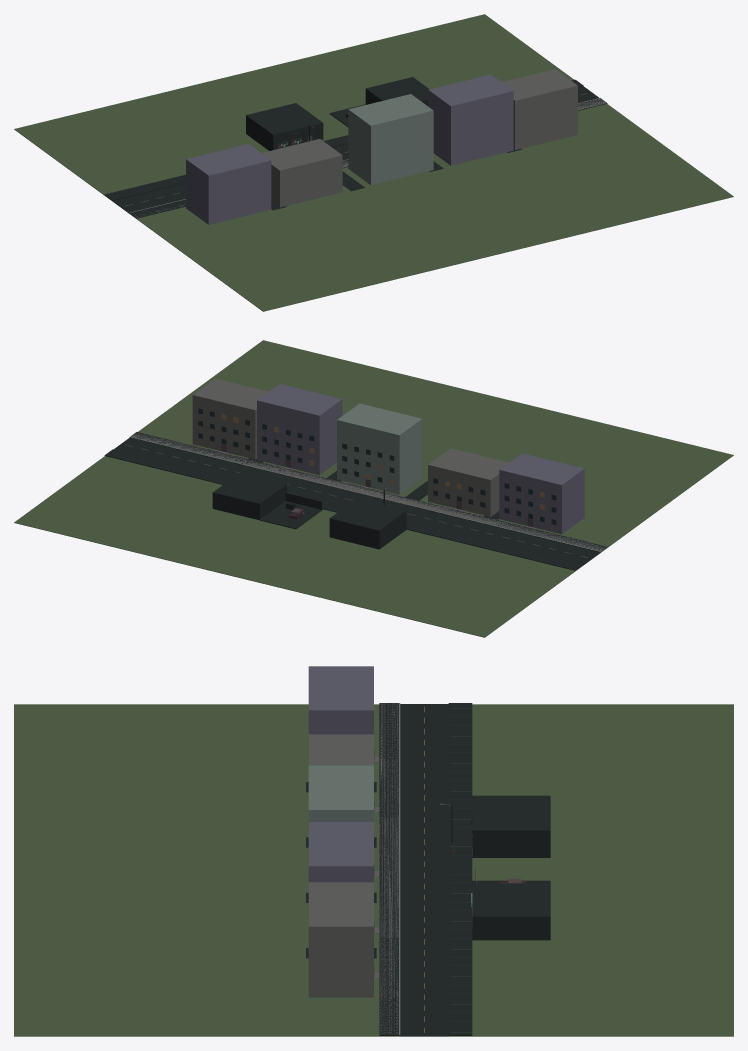
File: magazin_arme_strada.glb
3 views of the same model, one above another, from view 1: azimuth 30°, elevation 25°; view 2: azimuth 150°, elevation 25°; view 3: azimuth 270°, elevation 25° (orthographic). The views are drawn at different scales.
Visible parts, largest first — view 1: Strada, Coliziune; view 2: Strada, Coliziune; view 3: Strada, Coliziune.
Part boxes in pixels (x1=…): Strada: x1=14, y1=14, x2=733, y2=311; Coliziune: x1=104, y1=77, x2=607, y2=218; Strada: x1=14, y1=340, x2=733, y2=637; Coliziune: x1=104, y1=432, x2=607, y2=570; Strada: x1=14, y1=666, x2=733, y2=1036; Coliziune: x1=379, y1=703, x2=550, y2=1036.
Bounding box in the file's own units: 120 × 14.66 × 110.
